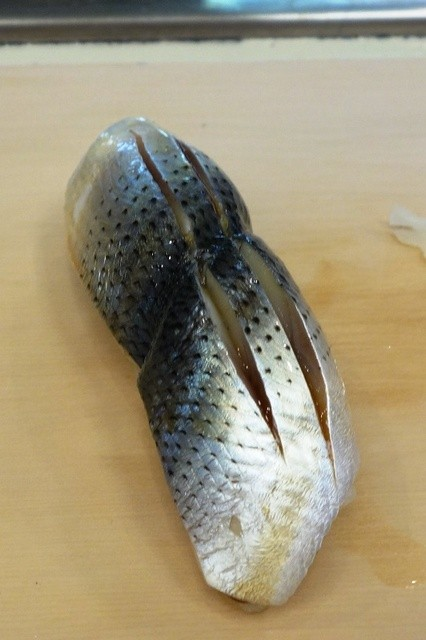spotted-shad: (60, 114, 362, 621)
